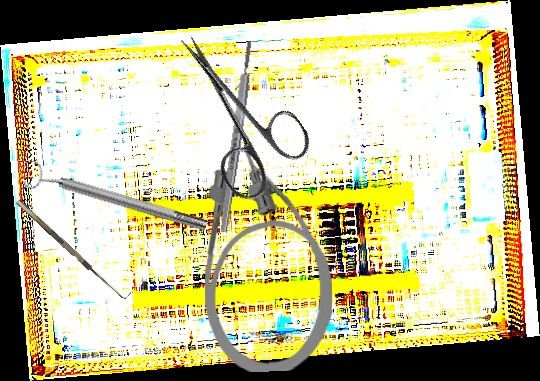Cannula: (202, 134, 334, 373)
Fixation Ring: (22, 157, 211, 242)
Hook Surgical: (15, 193, 132, 303)
Iris Scissors: (144, 11, 321, 206)
Scalpel Handle: (217, 40, 256, 233)
